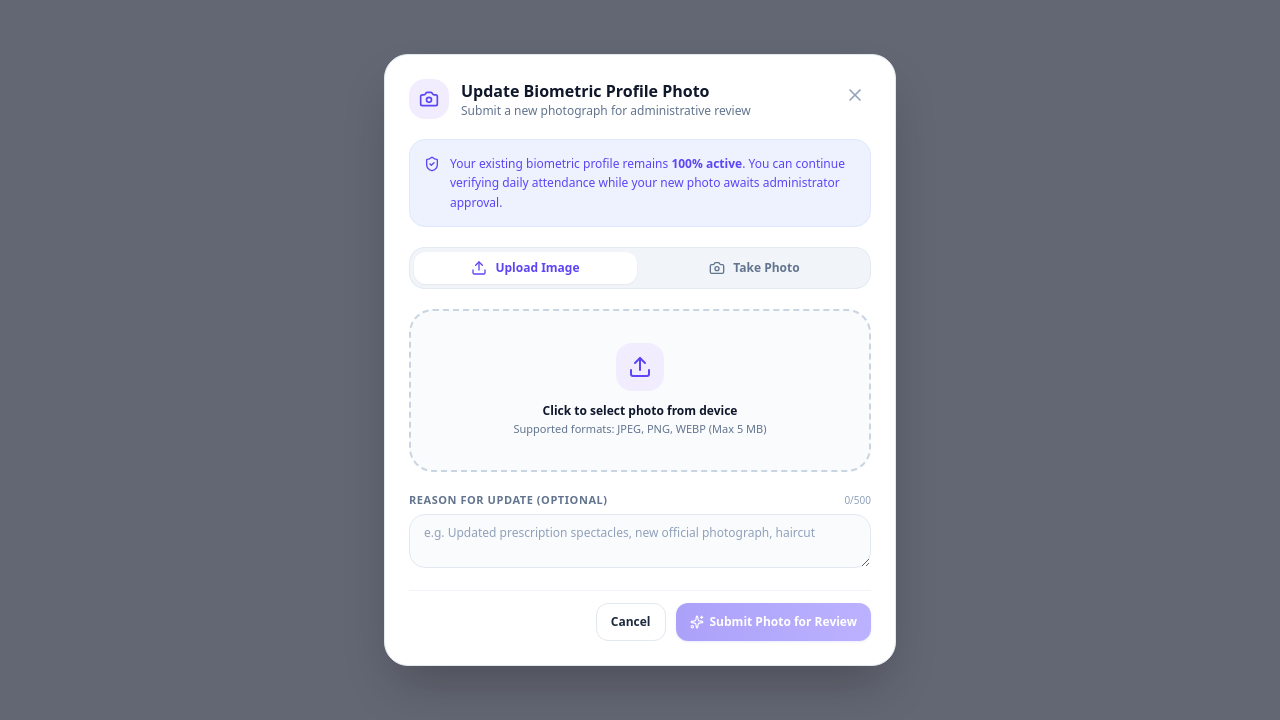
Scenario: Camera Initialization & Biometric Photo Modal Regression Tests › BiometricUpdateModal Component › 11. should display error overlay and Retry Camera button when camera fails
Click the button "Take Photo" at (754, 268), box top-left (643, 252), bottom-right (866, 284)
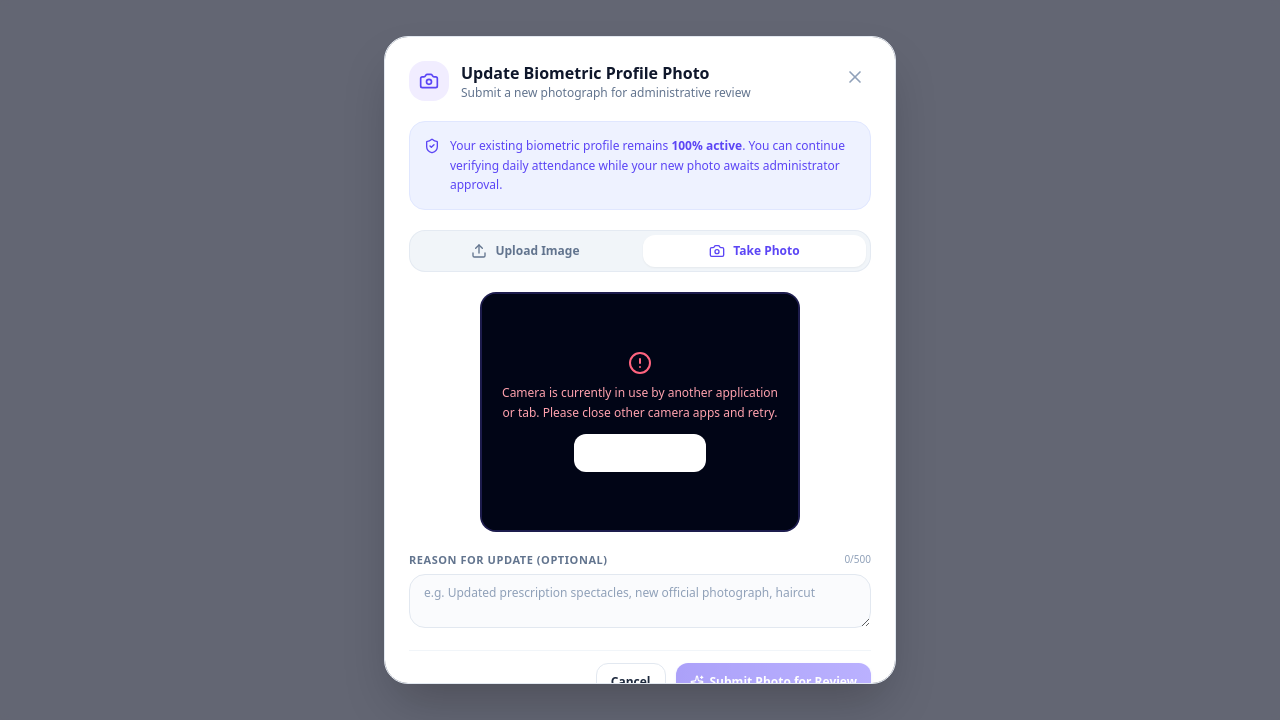
expect the text "in use by another application" is shown: met, box top-left (502, 384), bottom-right (778, 420)
expect the button "Retry Camera" is shown: met
Click the button "Retry Camera" at (640, 453), box top-left (574, 434), bottom-right (706, 472)
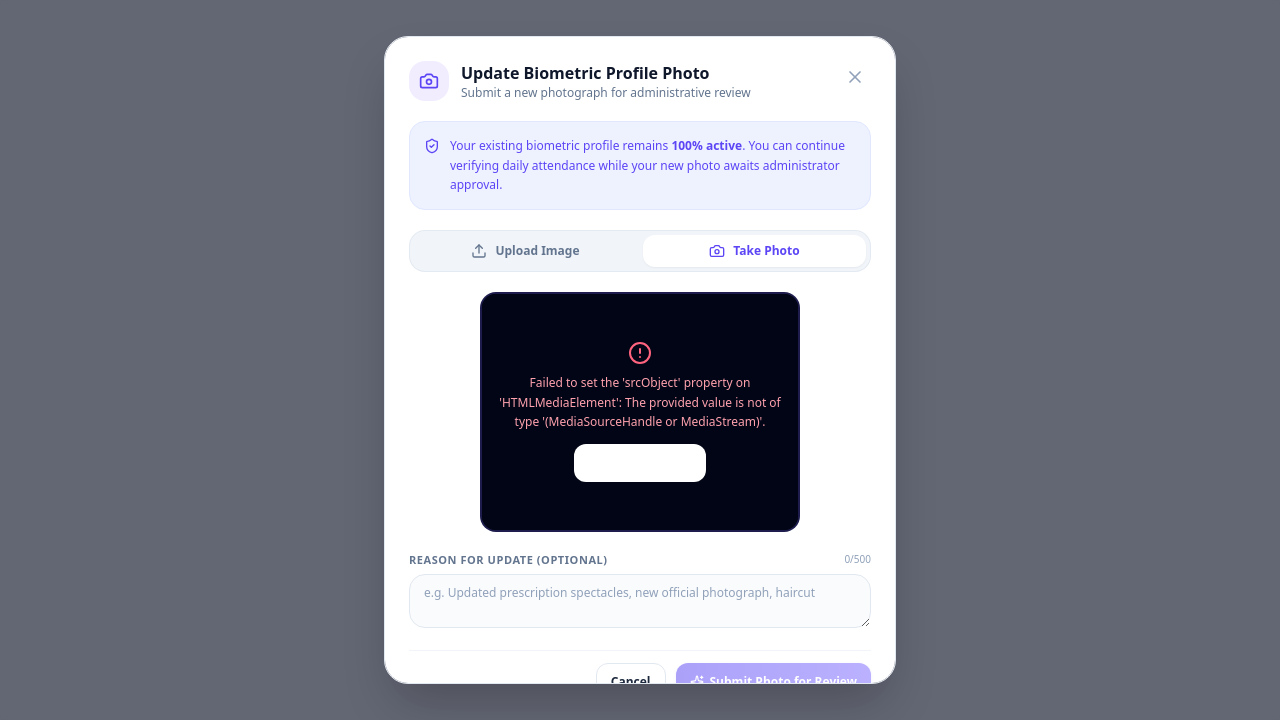
expect the text "in use by another application" is gone: met
